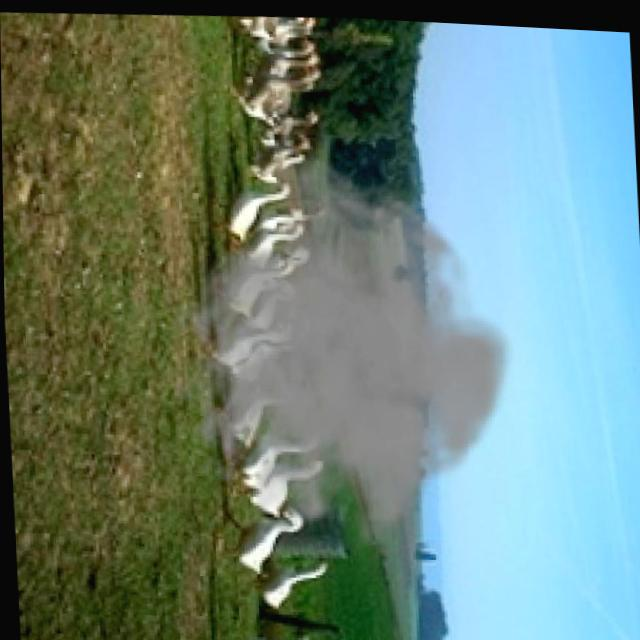no_helmet: (160, 143, 522, 560)
